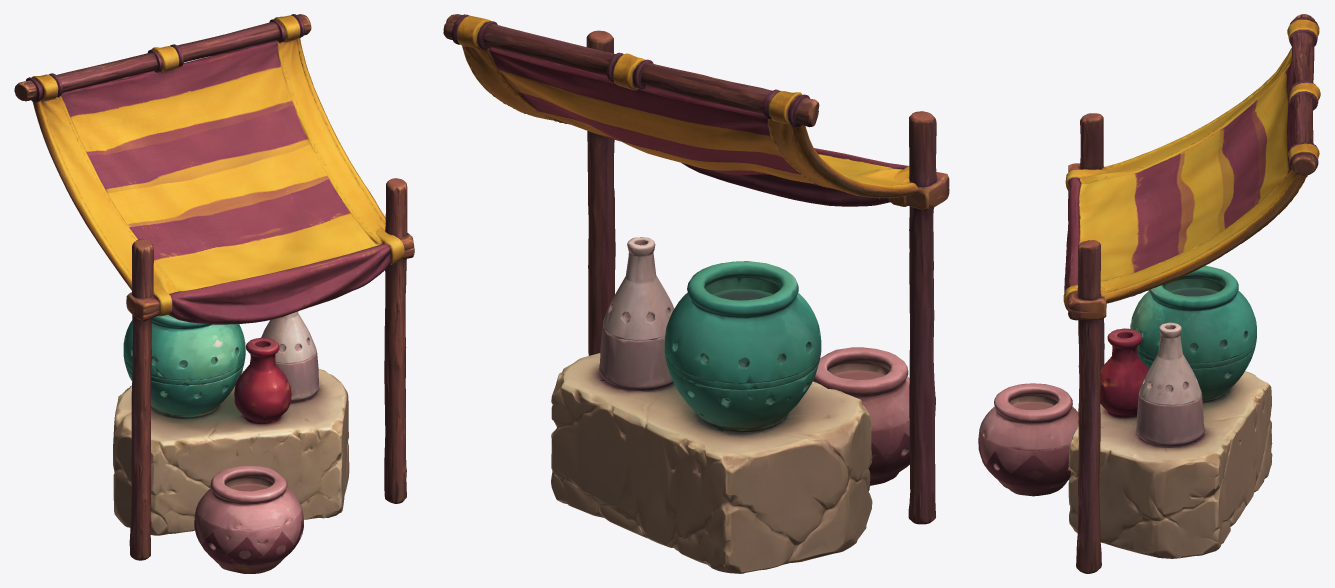
File: stall-tripo.glb
The picture shows the model from 3 angles, left to right: view 1: azimuth 30°, elevation 25°; view 2: azimuth 150°, elevation 25°; view 3: azimuth 270°, elevation 25°; orthographic projection. The views are drawn at different scales.
Visible parts, largest first — view 1: tripo_node_0de253a3-c3f0-4b59-9629-29953177a42a; view 2: tripo_node_0de253a3-c3f0-4b59-9629-29953177a42a; view 3: tripo_node_0de253a3-c3f0-4b59-9629-29953177a42a.
Part boxes in pixels (x1=…): tripo_node_0de253a3-c3f0-4b59-9629-29953177a42a: x1=14, y1=14, x2=414, y2=573; tripo_node_0de253a3-c3f0-4b59-9629-29953177a42a: x1=443, y1=14, x2=949, y2=573; tripo_node_0de253a3-c3f0-4b59-9629-29953177a42a: x1=978, y1=14, x2=1320, y2=573.
Size of the model in its own units: 0.7197 by 0.9796 by 0.7181.
Materials: 1 (1 with a texture image).
